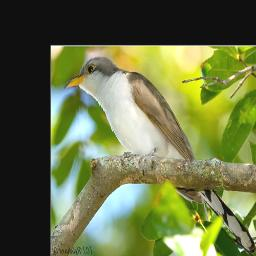Cuckoo: (59, 54, 256, 256)
